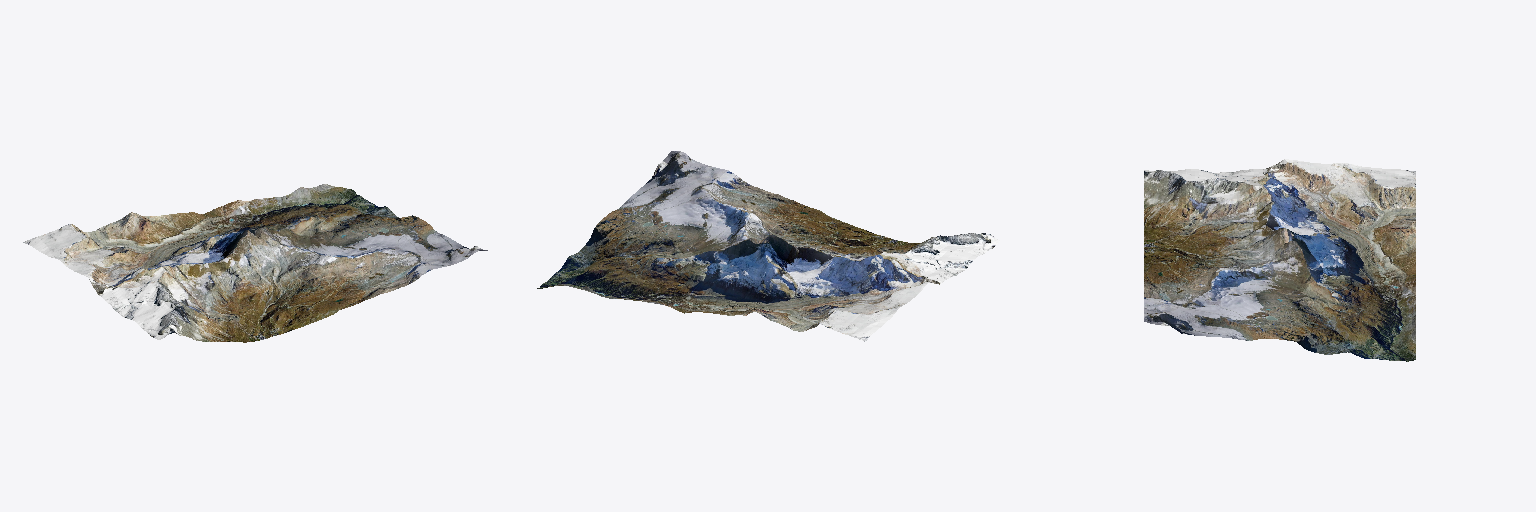
3 views of the same model, side by side, from view 1: azimuth 30°, elevation 25°; view 2: azimuth 150°, elevation 25°; view 3: azimuth 270°, elevation 25° (orthographic).
Visible parts, largest first — view 1: EXPORT_GOOGLE_SAT_WM; view 2: EXPORT_GOOGLE_SAT_WM; view 3: EXPORT_GOOGLE_SAT_WM.
Boxes of the visible parts, <box> form: EXPORT_GOOGLE_SAT_WM: <box>23,184,487,342</box>; EXPORT_GOOGLE_SAT_WM: <box>537,151,999,341</box>; EXPORT_GOOGLE_SAT_WM: <box>1144,159,1415,361</box>.
Size of the model in its own units: 16005 by 2352 by 11432.
Materials: 1 (1 with a texture image).